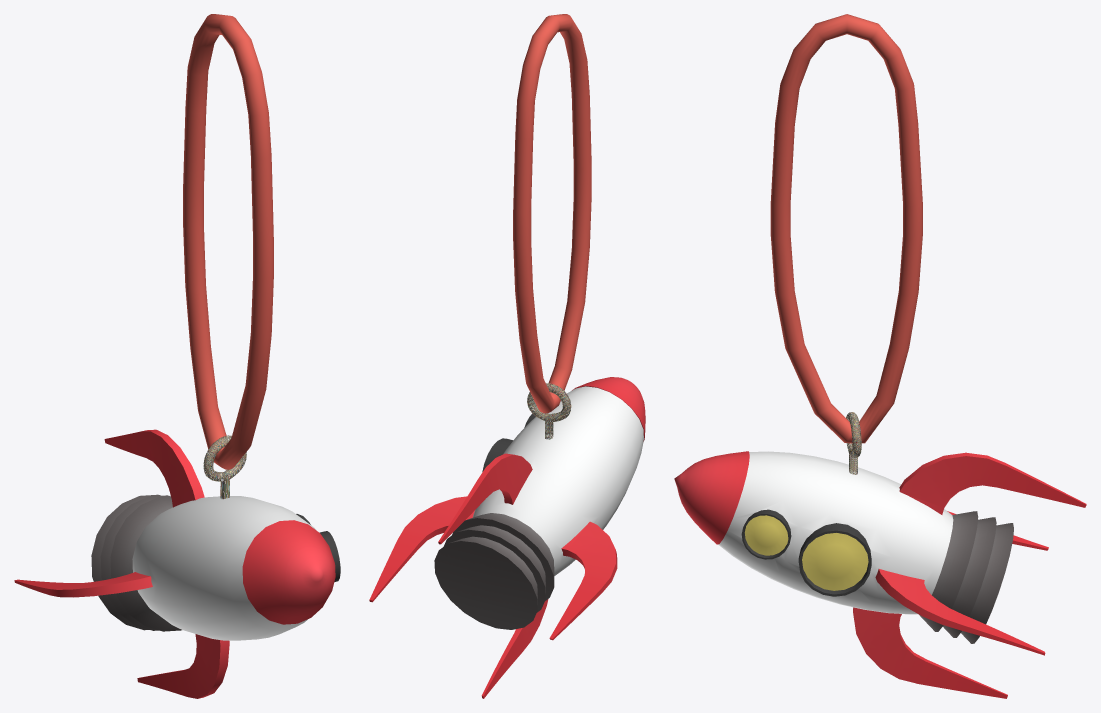
File: Decor_mirror3_rocket.fbx
The picture shows the model from 3 angles, left to right: view 1: azimuth 30°, elevation 25°; view 2: azimuth 150°, elevation 25°; view 3: azimuth 270°, elevation 25°; orthographic projection. The views are drawn at different scales.
Visible parts, largest first — view 1: Rocket; view 2: Rocket; view 3: Rocket.
Part boxes in pixels (left/top/right/bottom): Rocket: left=14, top=14, right=340, bottom=698; Rocket: left=369, top=14, right=645, bottom=698; Rocket: left=674, top=14, right=1086, bottom=698.
Size of the model in its own units: 1784 by 5214 by 2841.
